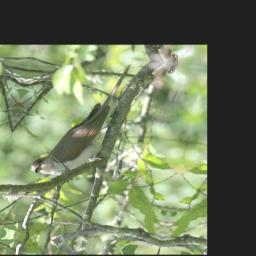Cuckoo: (28, 53, 135, 182)
